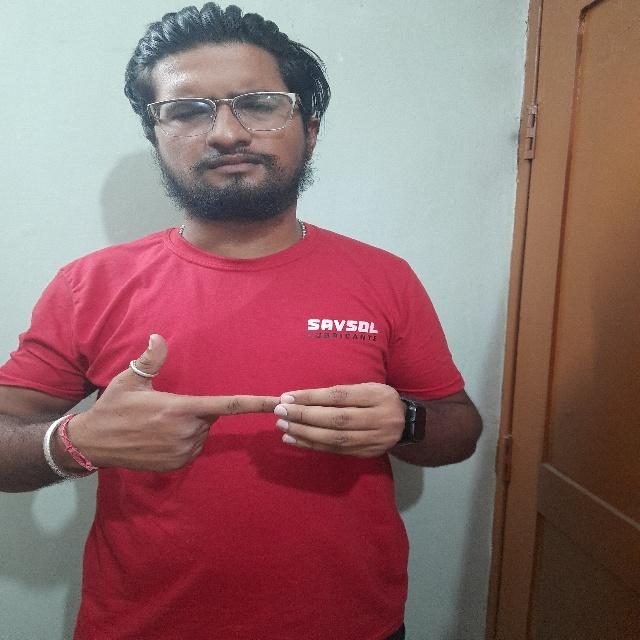Five Fathers: (72, 320, 412, 490)
